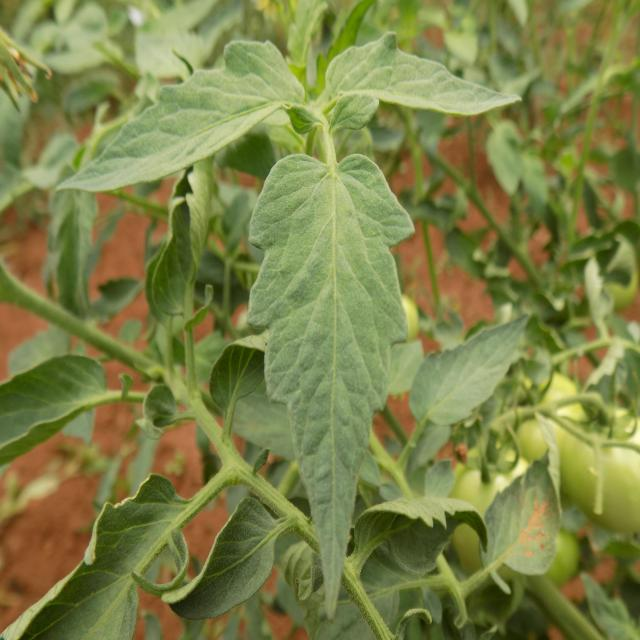tomato_healthy: (248, 148, 412, 616), (52, 38, 302, 195), (144, 499, 280, 632), (322, 35, 524, 117), (414, 300, 530, 432), (482, 428, 562, 582)
